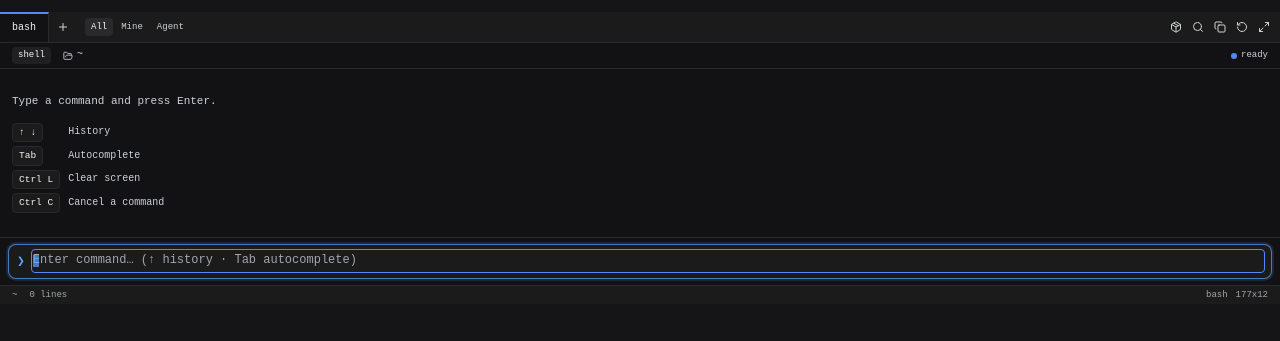
Test: TerminalPanel input › takes the highlighted suggestion only after you arrowed to it
The image size is (1280, 341).
Type "dir" into the field with placeholder "Enter command… (↑ history · Tab autocomplete)" at [648, 261], box [33,251,1263,271]
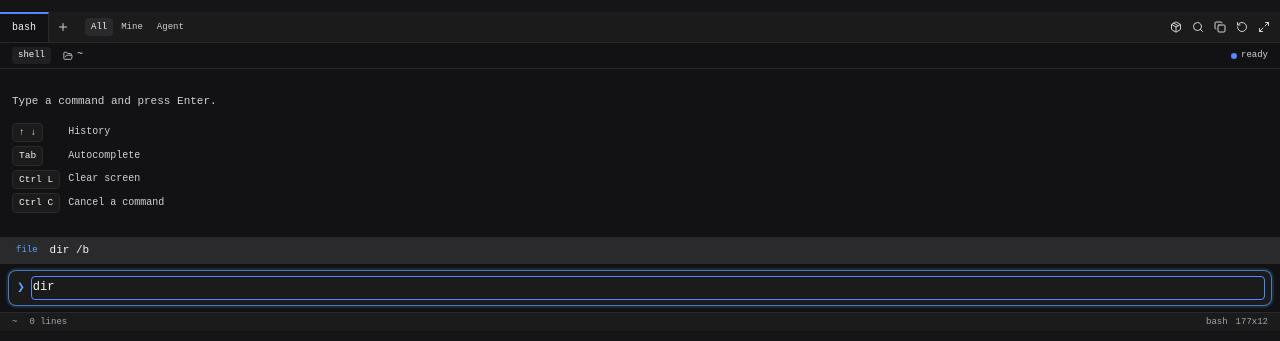
Press ArrowDown in the field with placeholder "Enter command… (↑ history · Tab autocomplete)", box [33,278,1263,298]
Press Enter in the field with placeholder "Enter command… (↑ history · Tab autocomplete)", box [33,278,1263,298]
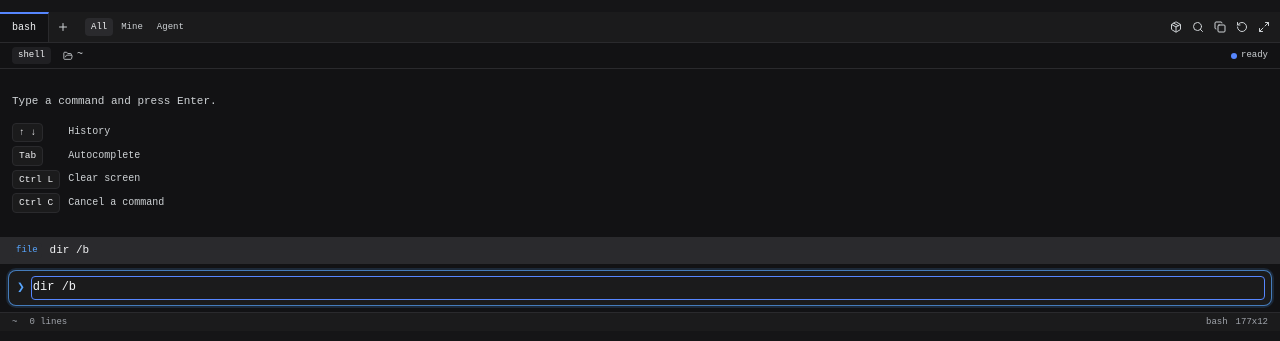
Check: the field with placeholder "Enter command… (↑ history · Tab autocomplete)" holds "dir /b", box [33,278,1263,298]
